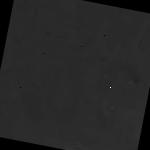colony: (43, 138, 104, 150)
